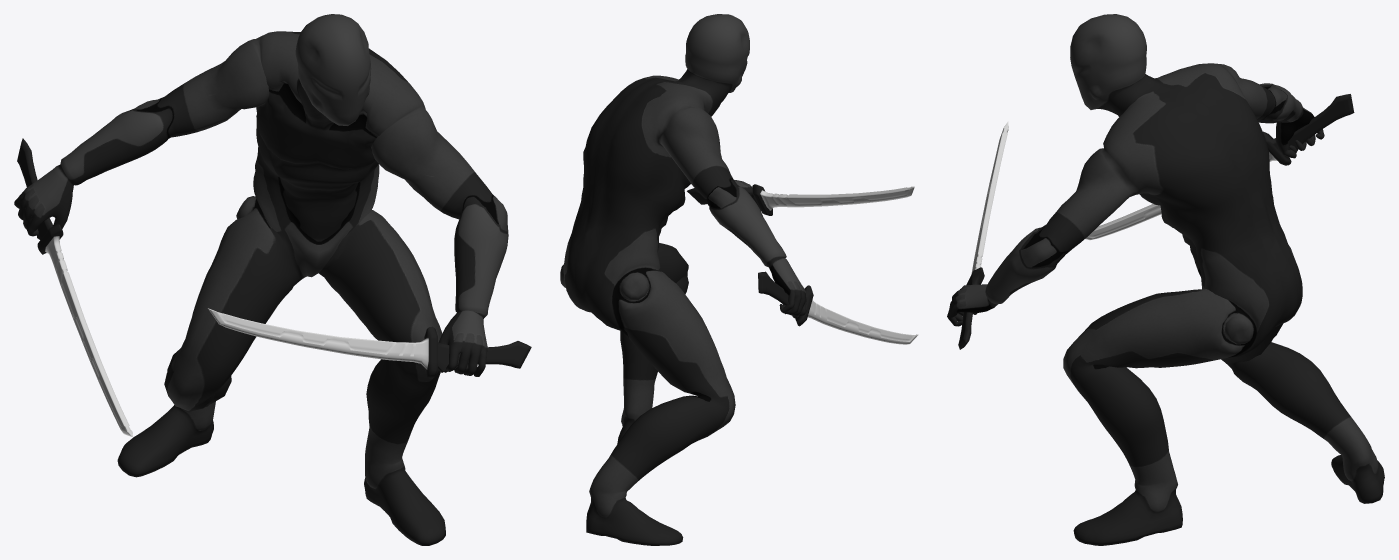
3 views of the same model, side by side, from view 1: azimuth 30°, elevation 25°; view 2: azimuth 150°, elevation 25°; view 3: azimuth 270°, elevation 25° (orthographic). The views are drawn at different scales.
Visible parts, largest first — view 1: Cyborg_Ninja_Killer, Sword_l, Sword_l001; view 2: Cyborg_Ninja_Killer, Sword_l, Sword_l001; view 3: Cyborg_Ninja_Killer, Sword_l001, Sword_l.
Boxes of the visible parts, bbox=[...] form: Cyborg_Ninja_Killer: bbox=[14, 14, 508, 545]; Sword_l: bbox=[208, 308, 531, 378]; Sword_l001: bbox=[17, 138, 132, 436]; Cyborg_Ninja_Killer: bbox=[560, 14, 806, 545]; Sword_l: bbox=[687, 184, 914, 215]; Sword_l001: bbox=[758, 271, 918, 344]; Cyborg_Ninja_Killer: bbox=[947, 14, 1384, 545]; Sword_l001: bbox=[1085, 94, 1354, 240]; Sword_l: bbox=[958, 121, 1008, 349].
Bounding box in the file's own units: 101 × 143 × 117.
Materials: 2 (2 with a texture image).
